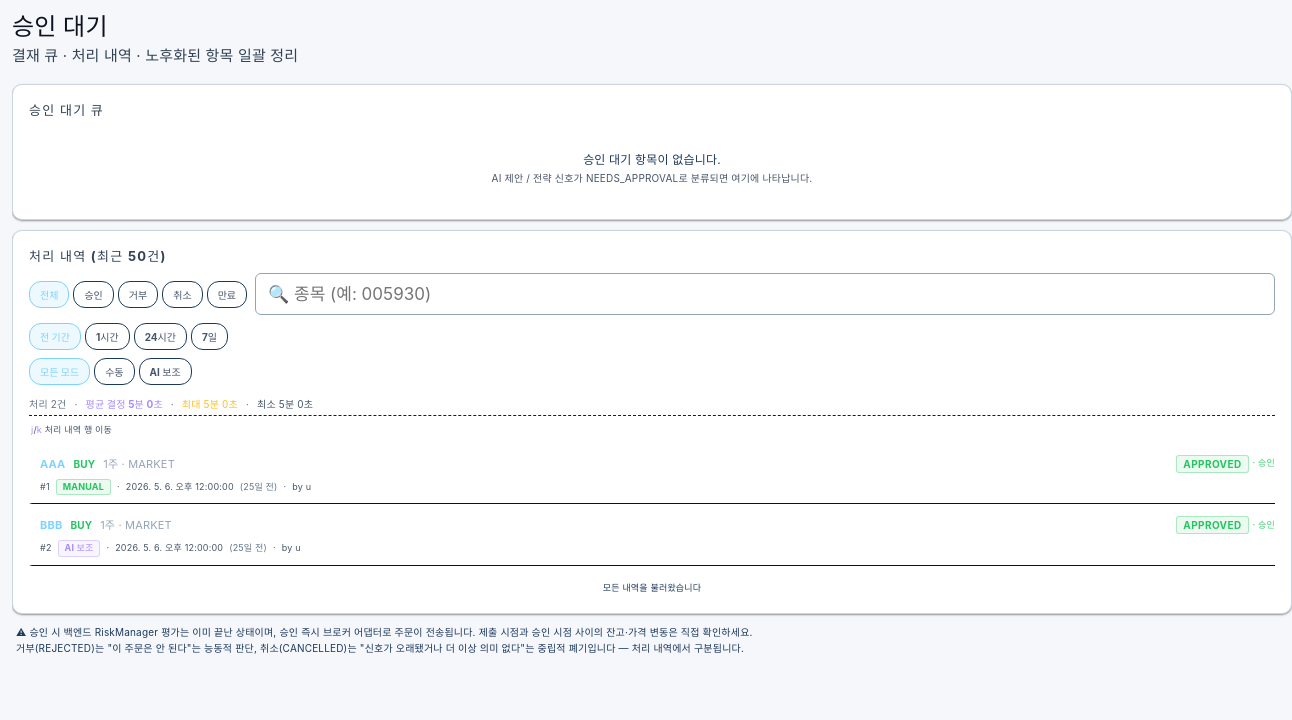
Test: <Approvals> 처리 내역 mode filter (092) › clicking 수동 narrows to LIVE_MANUAL_APPROVAL rows only
Click the radio button labelled "수동": (114,372) [94,358,135,385]
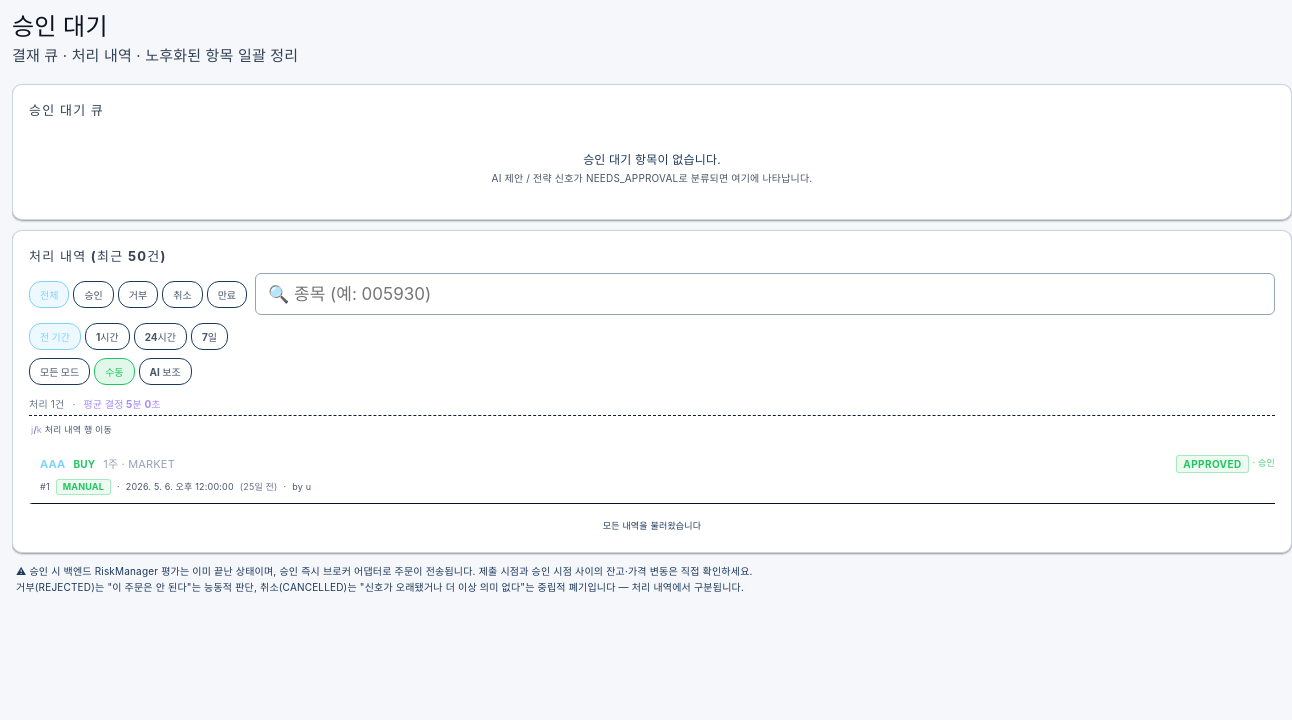
Expected: the text "AAA" is shown, [40,457,66,471]
Expected: the text "BBB" is gone
